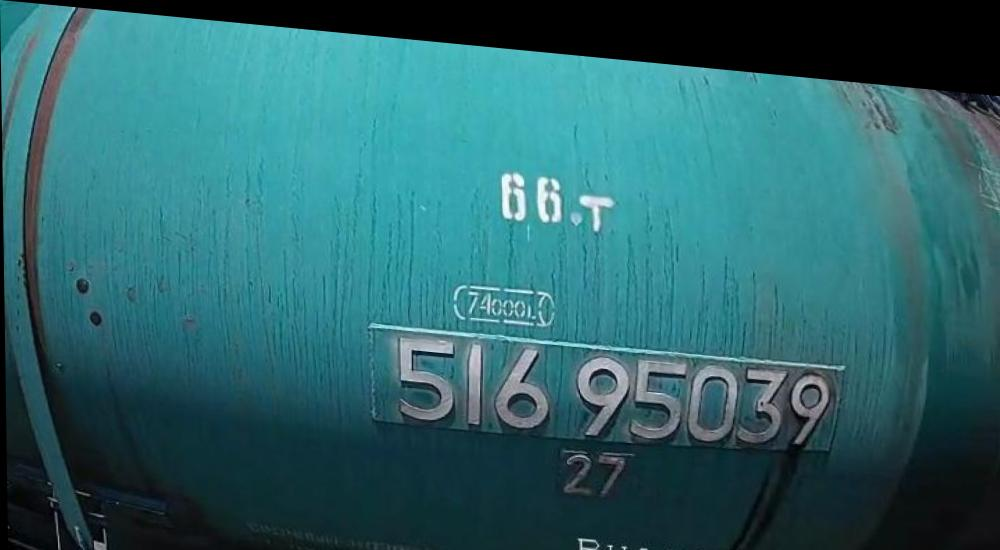Wagon-number: (382, 318, 828, 448)
